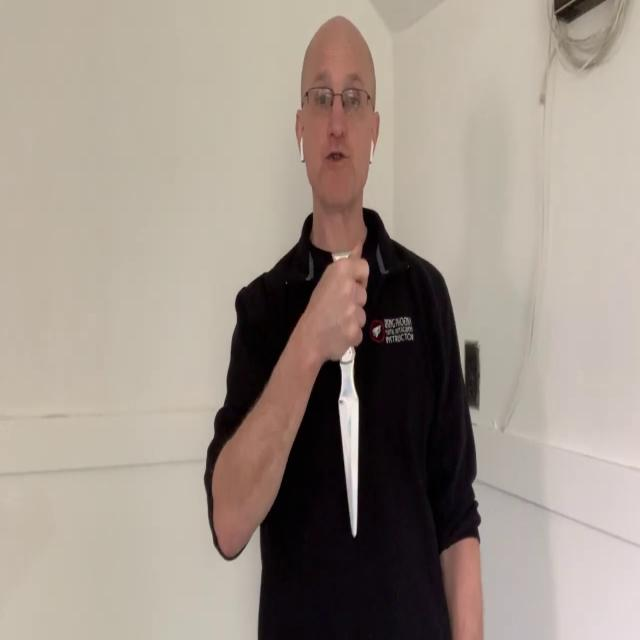Knife_Handle: (322, 242, 369, 538)
